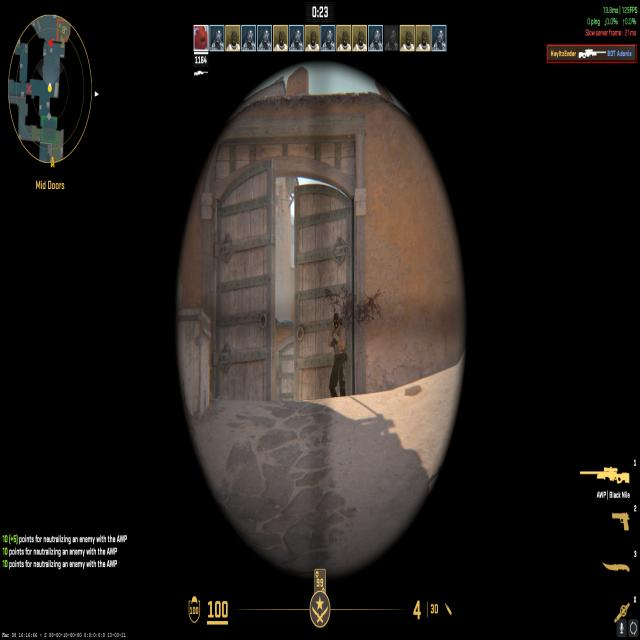t: (322, 306, 352, 399)
